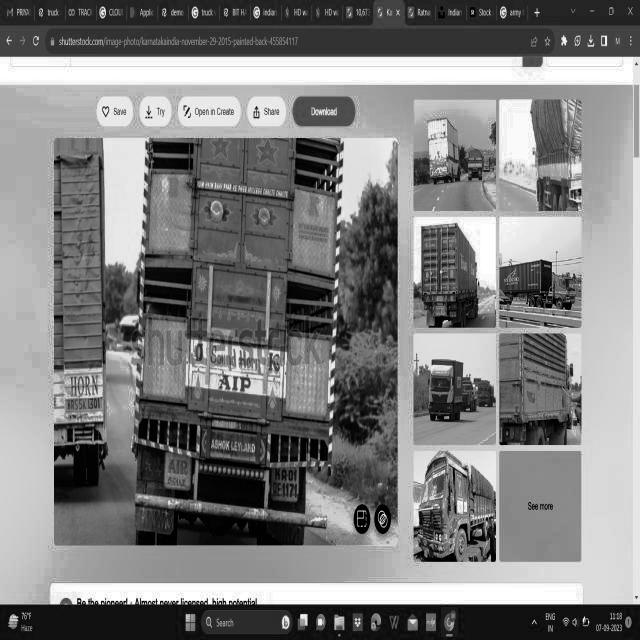HCV: (132, 140, 356, 558)
